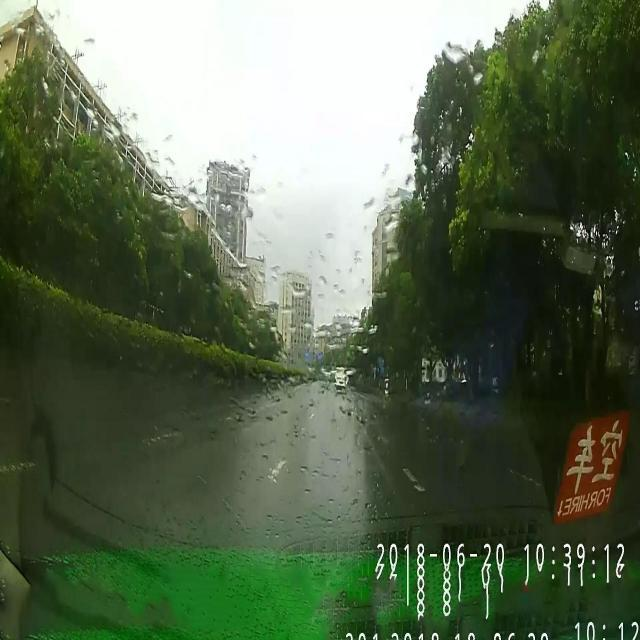car: (332, 365, 350, 390)
